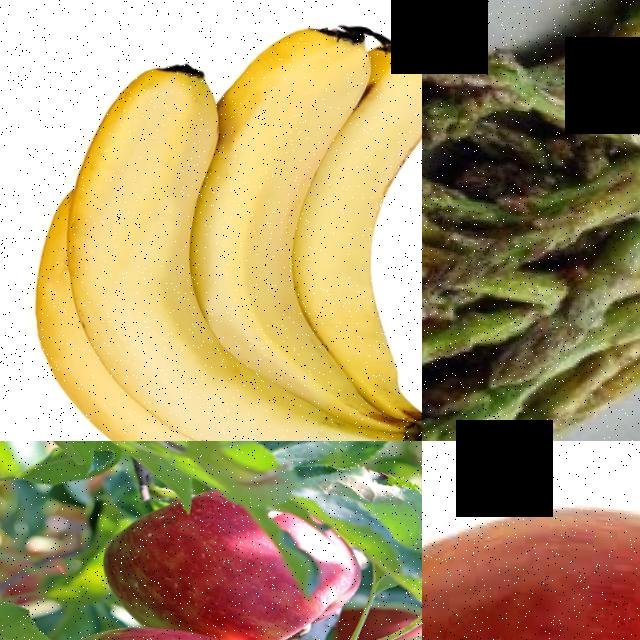apple: (79, 475, 366, 640), (422, 466, 640, 640), (320, 597, 422, 640)
asparagus: (431, 256, 632, 381), (433, 161, 640, 257), (503, 66, 640, 175)
banana: (0, 0, 422, 441)
